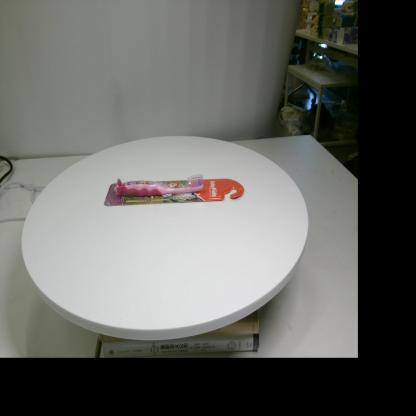Personal Hygiene: (104, 174, 244, 206)
